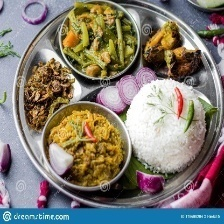sabzi: (42, 110, 125, 188)
